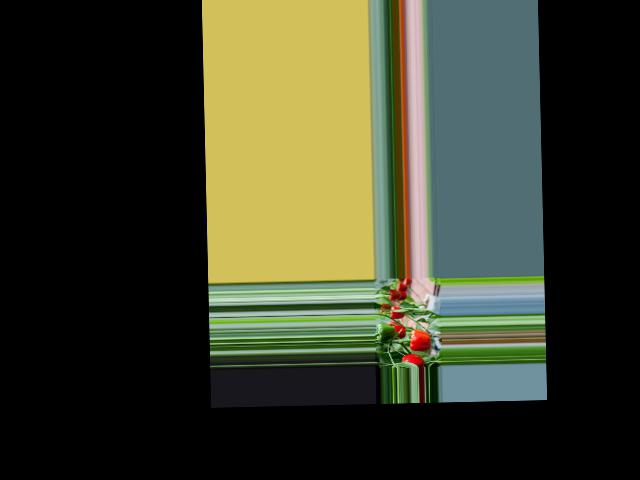bell_pepper: (386, 304, 408, 319)
